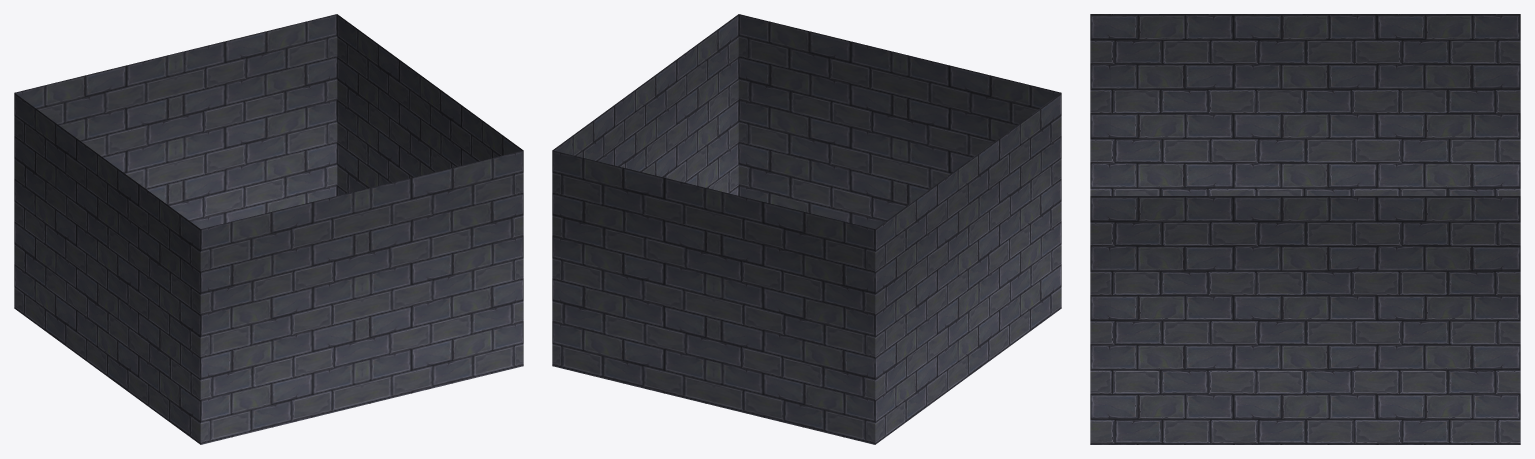
The model's file is dungeon_wall_closed.FBX.
3 renders of one model, left to right at view 1: azimuth 30°, elevation 25°; view 2: azimuth 150°, elevation 25°; view 3: azimuth 270°, elevation 25°, orthographic. The views are drawn at different scales.
Visible parts, largest first — view 1: wall_closed; view 2: wall_closed; view 3: wall_closed.
Part boxes in pixels (bbox=[...]): wall_closed: bbox=[14, 14, 523, 444]; wall_closed: bbox=[552, 14, 1061, 444]; wall_closed: bbox=[1090, 14, 1520, 444].
Size of the model in its own units: 900 by 575 by 900.
Materials: 1 (1 with a texture image).
